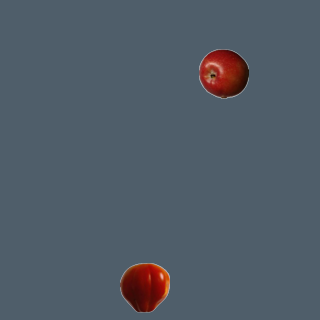Apple Braeburn: (198, 48, 248, 98)
Tomato 1: (119, 262, 169, 312)
